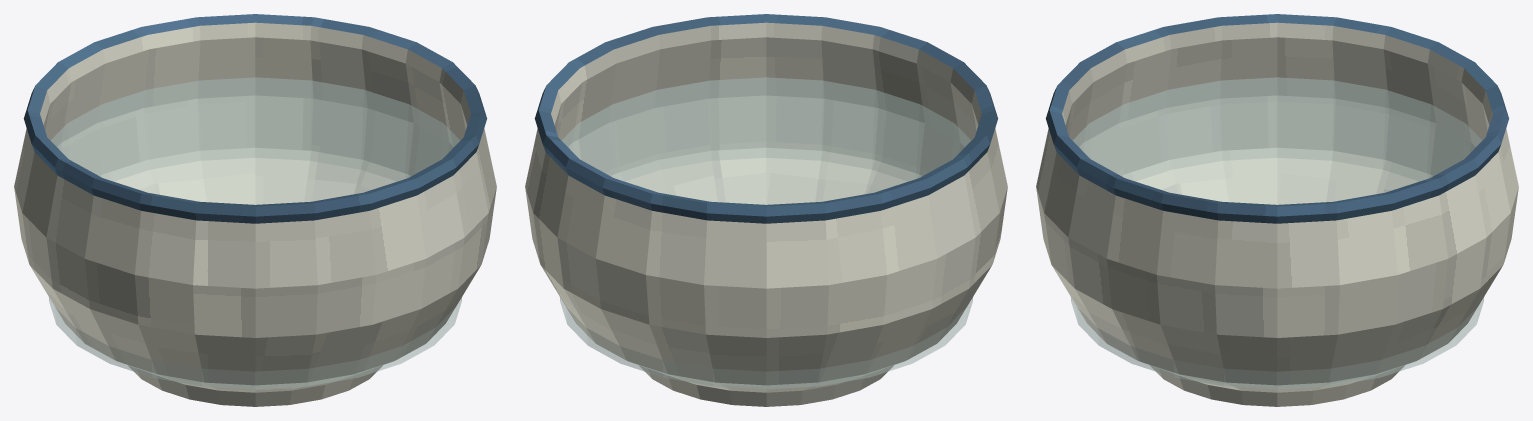
The model's file is ceramic-fish-bowl.glb.
3 renders of one model, left to right at view 1: azimuth 30°, elevation 25°; view 2: azimuth 150°, elevation 25°; view 3: azimuth 270°, elevation 25°, orthographic.
Parts seen in each view (by area): view 1: ceramic-fish-bowl/water-volume, ceramic-fish-bowl/complete-porcelain-bowl-band-4, ceramic-fish-bowl/complete-porcelain-bowl-band-9, ceramic-fish-bowl/complete-porcelain-bowl-band-3, ceramic-fish-bowl/complete-porcelain-bowl-band-10, ceramic-fish-bowl/complete-porcelain-bowl-band-2, ceramic-fish-bowl/complete-porcelain-bowl-band-11, ceramic-fish-bowl/complete-porcelain-bowl-band-7, ceramic-fish-bowl/complete-porcelain-bowl-band-8, ceramic-fish-bowl/complete-porcelain-bowl-band-6, ceramic-fish-bowl/complete-porcelain-bowl-band-0, ceramic-fish-bowl/complete-porcelain-bowl-band-5 (+1 smaller); view 2: ceramic-fish-bowl/water-volume, ceramic-fish-bowl/complete-porcelain-bowl-band-4, ceramic-fish-bowl/complete-porcelain-bowl-band-9, ceramic-fish-bowl/complete-porcelain-bowl-band-3, ceramic-fish-bowl/complete-porcelain-bowl-band-10, ceramic-fish-bowl/complete-porcelain-bowl-band-2, ceramic-fish-bowl/complete-porcelain-bowl-band-11, ceramic-fish-bowl/complete-porcelain-bowl-band-7, ceramic-fish-bowl/complete-porcelain-bowl-band-8, ceramic-fish-bowl/complete-porcelain-bowl-band-6, ceramic-fish-bowl/complete-porcelain-bowl-band-0, ceramic-fish-bowl/complete-porcelain-bowl-band-5 (+1 smaller); view 3: ceramic-fish-bowl/water-volume, ceramic-fish-bowl/complete-porcelain-bowl-band-4, ceramic-fish-bowl/complete-porcelain-bowl-band-9, ceramic-fish-bowl/complete-porcelain-bowl-band-3, ceramic-fish-bowl/complete-porcelain-bowl-band-10, ceramic-fish-bowl/complete-porcelain-bowl-band-2, ceramic-fish-bowl/complete-porcelain-bowl-band-11, ceramic-fish-bowl/complete-porcelain-bowl-band-7, ceramic-fish-bowl/complete-porcelain-bowl-band-8, ceramic-fish-bowl/complete-porcelain-bowl-band-6, ceramic-fish-bowl/complete-porcelain-bowl-band-0, ceramic-fish-bowl/complete-porcelain-bowl-band-5 (+1 smaller).
Boxes of the visible parts, x1,y1,x2,y2 form: ceramic-fish-bowl/water-volume: (49,77,461,389); ceramic-fish-bowl/complete-porcelain-bowl-band-4: (14,128,496,288); ceramic-fish-bowl/complete-porcelain-bowl-band-9: (43,37,467,146); ceramic-fish-bowl/complete-porcelain-bowl-band-3: (14,188,496,337); ceramic-fish-bowl/complete-porcelain-bowl-band-10: (57,95,453,175); ceramic-fish-bowl/complete-porcelain-bowl-band-2: (30,266,480,385); ceramic-fish-bowl/complete-porcelain-bowl-band-11: (100,147,410,204); ceramic-fish-bowl/complete-porcelain-bowl-band-7: (27,14,483,206); ceramic-fish-bowl/complete-porcelain-bowl-band-8: (40,22,470,124); ceramic-fish-bowl/complete-porcelain-bowl-band-6: (23,87,487,216); ceramic-fish-bowl/complete-porcelain-bowl-band-0: (128,365,382,406); ceramic-fish-bowl/complete-porcelain-bowl-band-5: (32,145,478,223); ceramic-fish-bowl/water-volume: (560,77,972,389); ceramic-fish-bowl/complete-porcelain-bowl-band-4: (525,128,1007,288); ceramic-fish-bowl/complete-porcelain-bowl-band-9: (554,37,978,146); ceramic-fish-bowl/complete-porcelain-bowl-band-3: (525,188,1007,337); ceramic-fish-bowl/complete-porcelain-bowl-band-10: (568,95,964,175); ceramic-fish-bowl/complete-porcelain-bowl-band-2: (541,266,991,385); ceramic-fish-bowl/complete-porcelain-bowl-band-11: (611,147,921,204); ceramic-fish-bowl/complete-porcelain-bowl-band-7: (538,14,994,206); ceramic-fish-bowl/complete-porcelain-bowl-band-8: (551,22,981,124); ceramic-fish-bowl/complete-porcelain-bowl-band-6: (534,87,998,216); ceramic-fish-bowl/complete-porcelain-bowl-band-0: (639,365,893,406); ceramic-fish-bowl/complete-porcelain-bowl-band-5: (543,145,989,223); ceramic-fish-bowl/water-volume: (1071,77,1483,389); ceramic-fish-bowl/complete-porcelain-bowl-band-4: (1036,128,1518,288); ceramic-fish-bowl/complete-porcelain-bowl-band-9: (1065,37,1489,146); ceramic-fish-bowl/complete-porcelain-bowl-band-3: (1036,188,1518,337); ceramic-fish-bowl/complete-porcelain-bowl-band-10: (1079,95,1475,175); ceramic-fish-bowl/complete-porcelain-bowl-band-2: (1052,266,1502,385); ceramic-fish-bowl/complete-porcelain-bowl-band-11: (1122,147,1432,204); ceramic-fish-bowl/complete-porcelain-bowl-band-7: (1049,14,1505,206); ceramic-fish-bowl/complete-porcelain-bowl-band-8: (1062,22,1492,124); ceramic-fish-bowl/complete-porcelain-bowl-band-6: (1045,87,1509,216); ceramic-fish-bowl/complete-porcelain-bowl-band-0: (1150,365,1404,406); ceramic-fish-bowl/complete-porcelain-bowl-band-5: (1054,145,1500,223).
Size of what is drawn, in the model's own units: 0.625 by 0.344 by 0.625.
4 materials, 3 textured.
